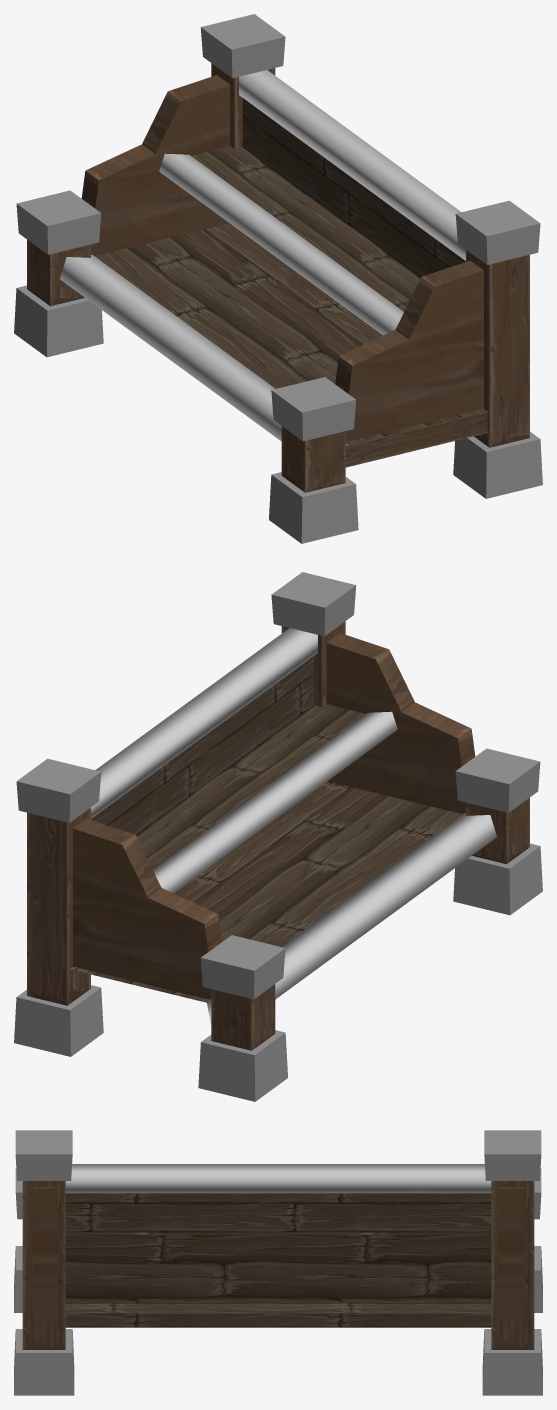
File: cs_zhucheng_huojia_001.FBX
3 renders of one model, top to bottom at view 1: azimuth 30°, elevation 25°; view 2: azimuth 150°, elevation 25°; view 3: azimuth 270°, elevation 25°, orthographic. The views are drawn at different scales.
Parts seen in each view (by area): view 1: cs_zhucheng_huojia_001; view 2: cs_zhucheng_huojia_001; view 3: cs_zhucheng_huojia_001.
Boxes of the visible parts, x1,y1,x2,y2 form: cs_zhucheng_huojia_001: [14, 14, 542, 543]; cs_zhucheng_huojia_001: [14, 572, 542, 1101]; cs_zhucheng_huojia_001: [14, 1130, 542, 1395].
Size of the model in its own units: 81.28 by 168 by 84.18.
